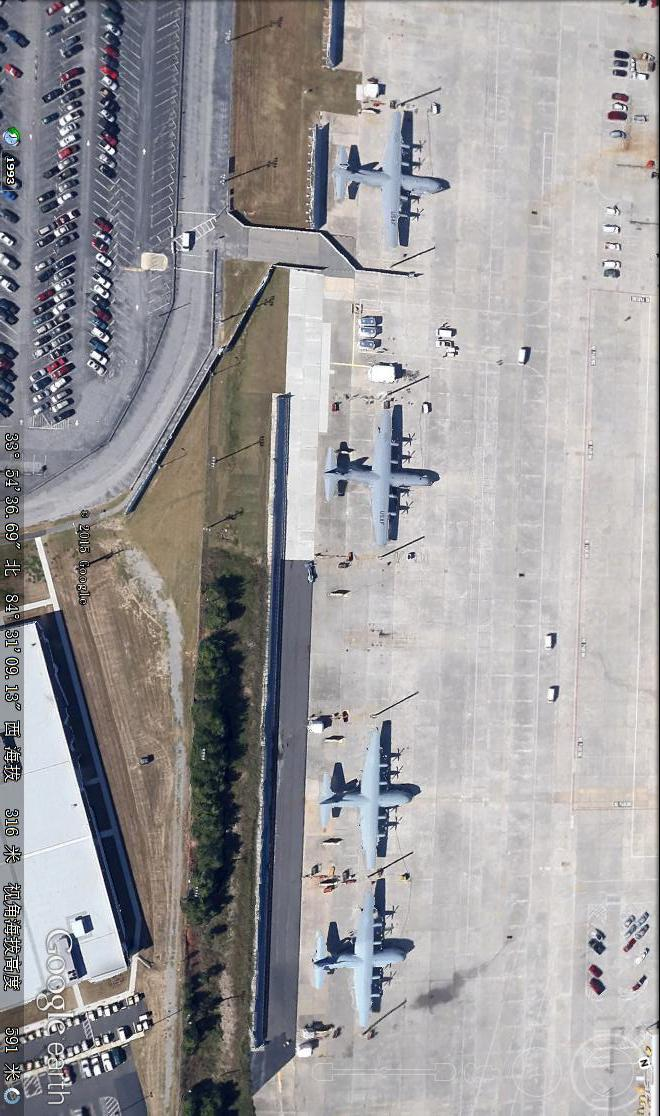C-130: (324, 393, 442, 549), (332, 106, 450, 256), (313, 887, 419, 1036), (316, 726, 419, 868)
